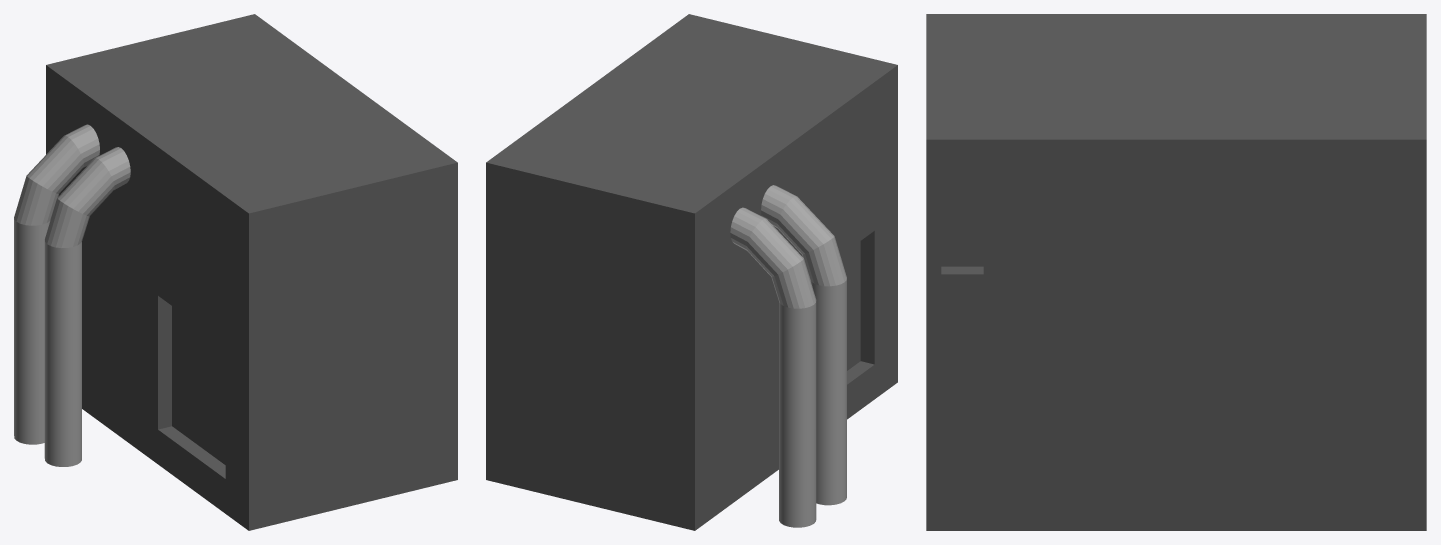
Rendered from New_Buizen.fbx.
3 views of the same model, side by side, from view 1: azimuth 30°, elevation 25°; view 2: azimuth 150°, elevation 25°; view 3: azimuth 270°, elevation 25° (orthographic). The views are drawn at different scales.
Parts seen in each view (by area): view 1: pCylinder3; view 2: pCylinder3; view 3: pCylinder3.
Part boxes in pixels (x1,y1,x2,y2): pCylinder3: [14, 14, 457, 530]; pCylinder3: [486, 14, 897, 530]; pCylinder3: [926, 14, 1426, 530].
Bounding box in the file's own units: 38.36 × 42.07 × 47.63.
